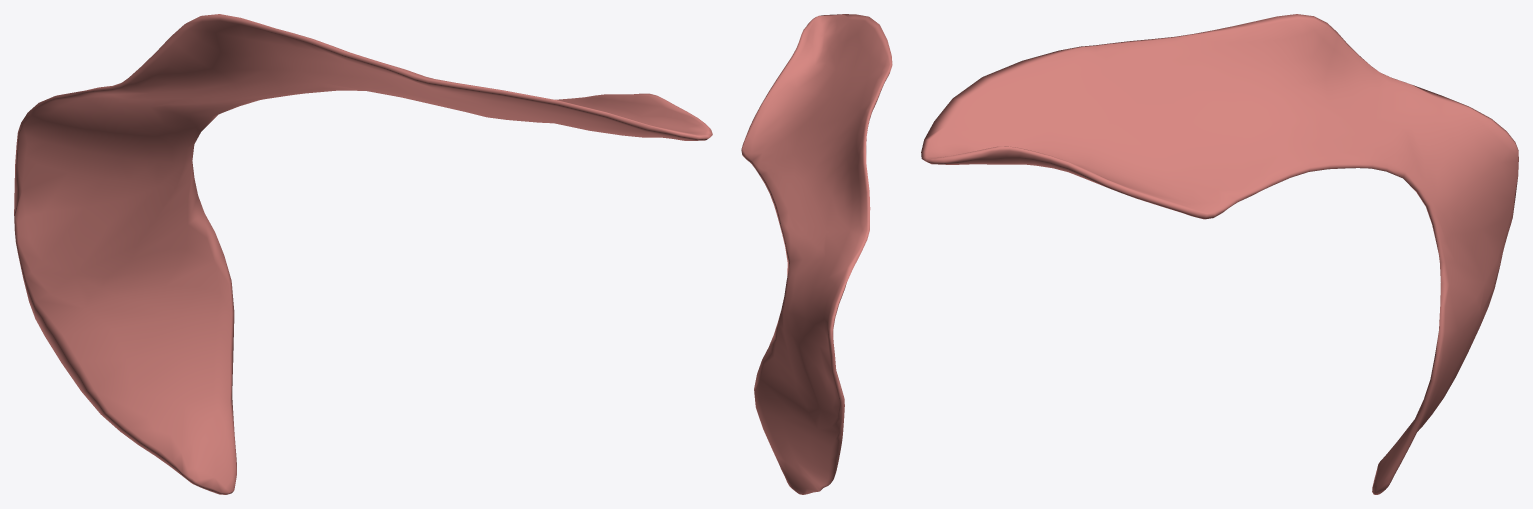
3 views of the same model, side by side, from view 1: azimuth 30°, elevation 25°; view 2: azimuth 150°, elevation 25°; view 3: azimuth 270°, elevation 25° (orthographic). The views are drawn at different scales.
Parts seen in each view (by area): view 1: ZA_f3ee437cc2d1b48a; view 2: ZA_f3ee437cc2d1b48a; view 3: ZA_f3ee437cc2d1b48a.
Part boxes in pixels (x1,y1,x2,y2): ZA_f3ee437cc2d1b48a: [14, 14, 712, 494]; ZA_f3ee437cc2d1b48a: [741, 14, 892, 494]; ZA_f3ee437cc2d1b48a: [921, 14, 1518, 494].
Size of the model in its own units: 0.0228 by 0.0316 by 0.0369.
